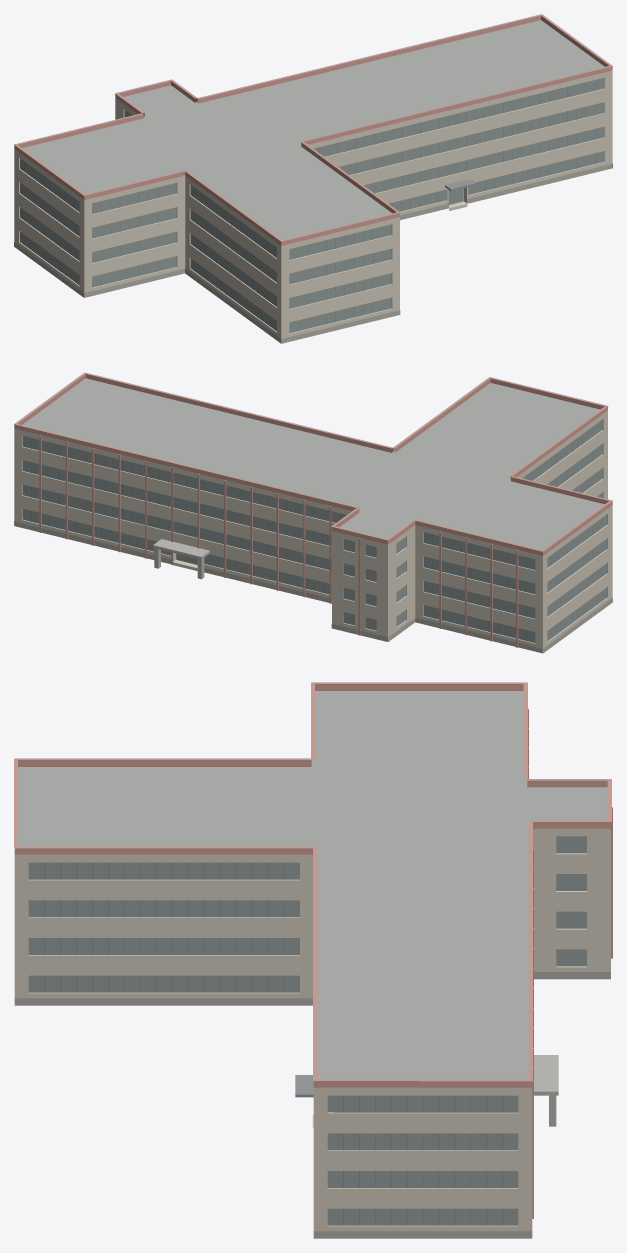
The picture shows the model from 3 angles, top to bottom: view 1: azimuth 30°, elevation 25°; view 2: azimuth 150°, elevation 25°; view 3: azimuth 270°, elevation 25°; orthographic projection. The views are drawn at different scales.
Parts seen in each view (by area): view 1: b6953118__roof, b6953118__wall, b6953118__glass, b6953118__parapet, b6953118__trim, b6953118__frame, b6953118__base; view 2: b6953118__roof, b6953118__wall, b6953118__glass, b6953118__trim, b6953118__parapet, b6953118__base, b6953118__frame, b6953118__wall2; view 3: b6953118__roof, b6953118__wall, b6953118__glass, b6953118__trim, b6953118__parapet, b6953118__base, b6953118__frame, b6953118__wall2.
Boxes of the visible parts, x1,y1,x2,y2 form: b6953118__roof: (22, 20, 604, 240); b6953118__wall: (14, 70, 612, 343); b6953118__glass: (20, 78, 604, 333); b6953118__parapet: (14, 15, 612, 245); b6953118__trim: (14, 14, 612, 242); b6953118__frame: (24, 80, 595, 330); b6953118__base: (14, 163, 612, 343); b6953118__roof: (22, 378, 604, 550); b6953118__wall: (14, 410, 612, 652); b6953118__glass: (22, 420, 606, 642); b6953118__trim: (14, 372, 612, 647); b6953118__parapet: (14, 374, 612, 555); b6953118__base: (14, 521, 612, 653); b6953118__frame: (31, 423, 602, 640); b6953118__wall2: (153, 539, 209, 579); b6953118__roof: (18, 691, 607, 1079); b6953118__wall: (14, 828, 610, 1231); b6953118__glass: (28, 836, 586, 1225); b6953118__trim: (14, 682, 612, 1218); b6953118__parapet: (14, 684, 610, 1087); b6953118__base: (14, 972, 610, 1238); b6953118__frame: (44, 862, 502, 1225); b6953118__wall2: (534, 1055, 558, 1126).
Bounding box in the file's own units: 81.71 × 15.45 × 51.87.
